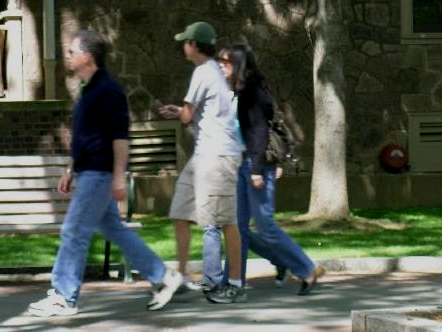pedestrian: (20, 30, 183, 317), (219, 47, 326, 295), (159, 22, 245, 303)
